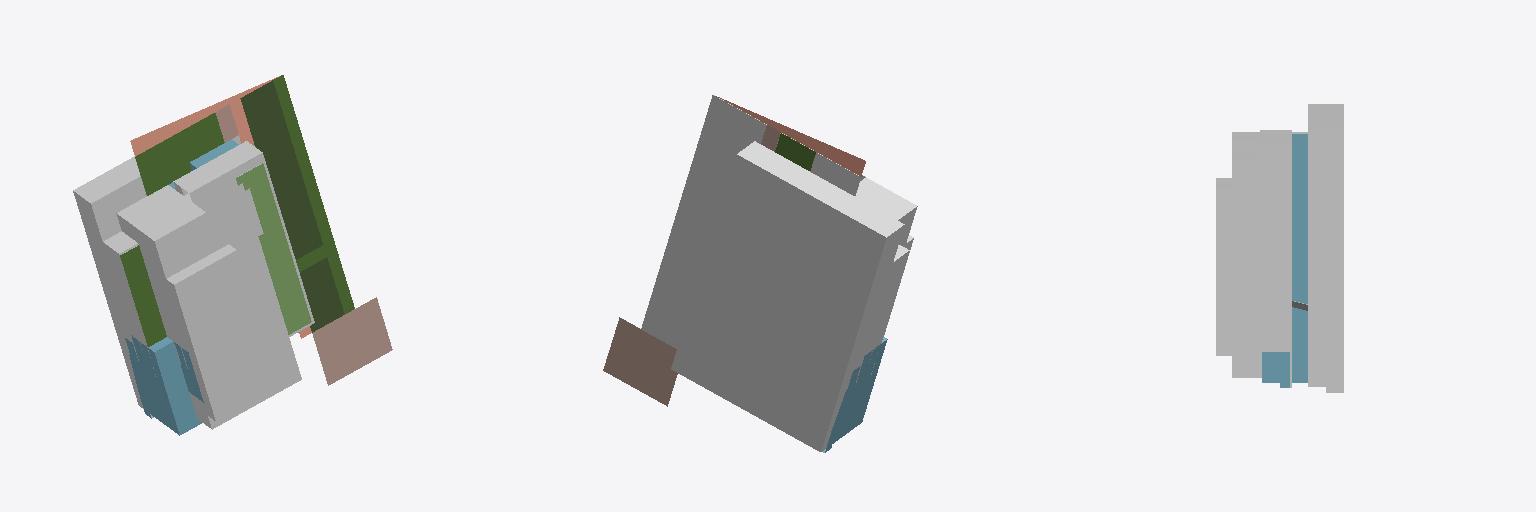
The model's file is opt1-4.obj.
3 views of the same model, side by side, from view 1: azimuth 30°, elevation 25°; view 2: azimuth 150°, elevation 25°; view 3: azimuth 270°, elevation 25° (orthographic).
Bounding box in the file's own units: 347 × 355 × 128.